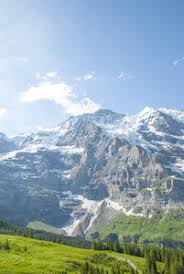field: (4, 232, 184, 273)
mountain: (9, 109, 184, 228)
sky: (2, 3, 181, 110)
